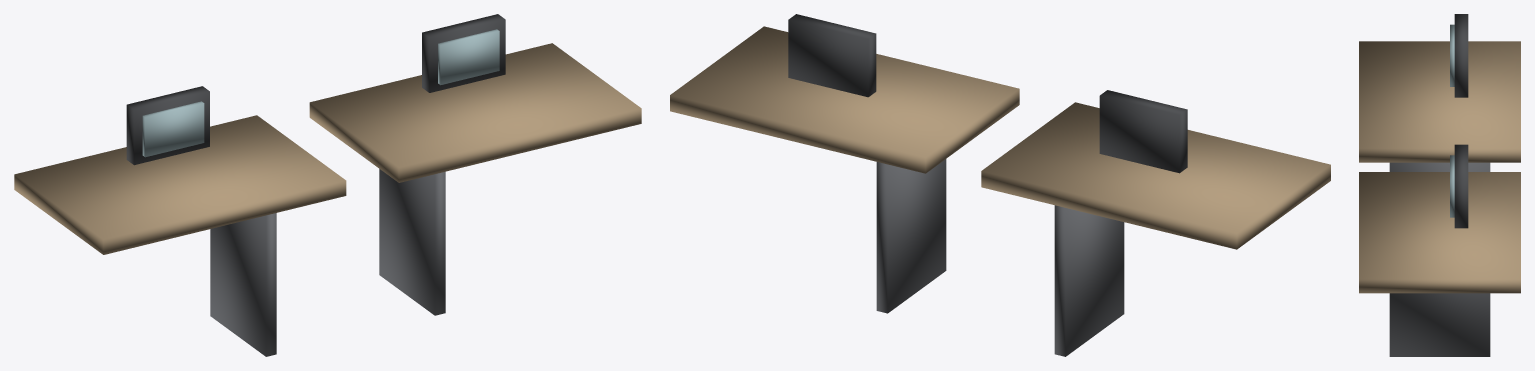
Rendered from newsroom_desk_cluster__deep.glb.
3 renders of one model, left to right at view 1: azimuth 30°, elevation 25°; view 2: azimuth 150°, elevation 25°; view 3: azimuth 270°, elevation 25°, orthographic. The views are drawn at different scales.
Parts seen in each view (by area): view 1: world; view 2: world; view 3: world.
Part boxes in pixels (x1,y1,x2,y2): world: (14,14,641,356); world: (670,14,1330,356); world: (1359,14,1520,356).
Bounding box in the file's own units: 2.55 × 1.11 × 0.732.
